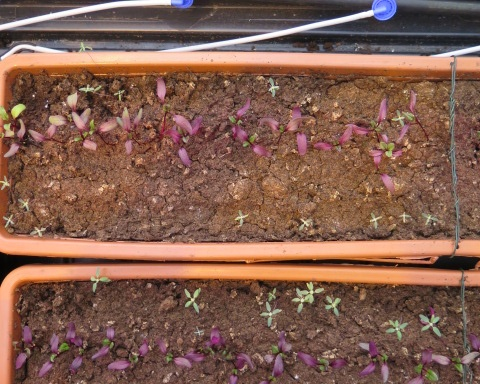crop: (155, 77, 195, 138), (403, 90, 433, 147), (71, 112, 118, 148), (351, 97, 387, 142), (177, 117, 207, 168), (119, 108, 147, 158), (48, 94, 87, 129), (259, 116, 307, 143), (368, 149, 396, 194), (266, 333, 292, 380), (290, 105, 312, 160), (107, 343, 150, 371), (296, 352, 347, 374), (233, 127, 268, 159), (38, 333, 62, 379), (27, 127, 69, 153), (156, 338, 191, 369), (194, 327, 224, 363), (314, 126, 351, 155), (409, 349, 439, 384), (226, 98, 252, 138), (5, 119, 27, 165), (15, 326, 37, 371), (228, 349, 257, 383), (430, 352, 479, 371), (360, 338, 378, 379), (91, 327, 114, 359), (70, 336, 86, 374), (380, 351, 390, 383)
weed: (257, 300, 284, 329), (382, 317, 408, 342), (88, 267, 114, 292), (420, 313, 443, 339), (182, 287, 203, 314), (302, 282, 325, 304), (323, 293, 343, 318), (79, 84, 111, 99), (263, 76, 281, 99), (292, 288, 309, 312), (419, 208, 440, 226), (232, 208, 250, 228), (367, 210, 384, 230), (395, 209, 415, 225), (27, 225, 46, 240), (17, 196, 34, 212), (1, 213, 16, 229), (391, 109, 405, 126), (113, 88, 129, 102), (298, 218, 313, 229), (266, 287, 277, 301), (1, 175, 11, 190), (194, 327, 205, 337)
